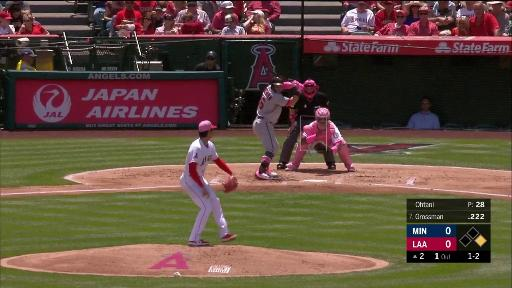pitcher: (178, 119, 239, 246)
